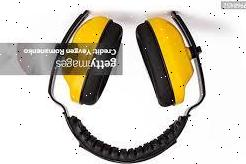Ear_protector: (68, 16, 125, 109), (133, 19, 193, 106)
